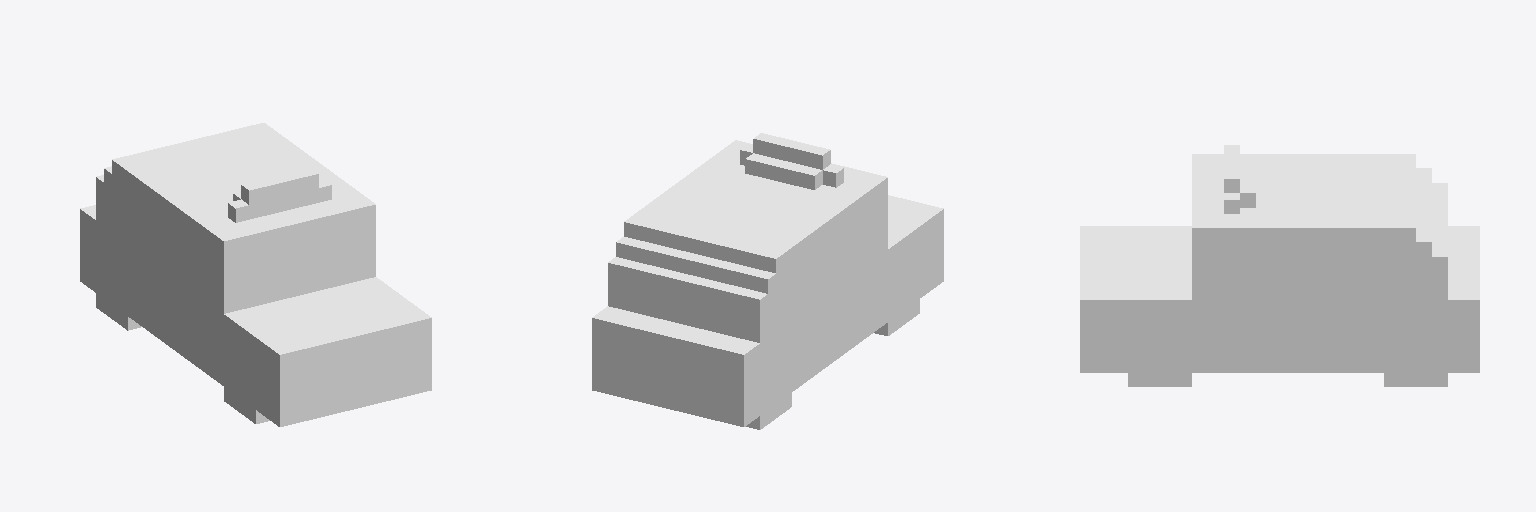
Rendered from Car2.obj.
3 renders of one model, left to right at view 1: azimuth 30°, elevation 25°; view 2: azimuth 150°, elevation 25°; view 3: azimuth 270°, elevation 25°, orthographic.
Size of the model in its own units: 11 by 13 by 25.